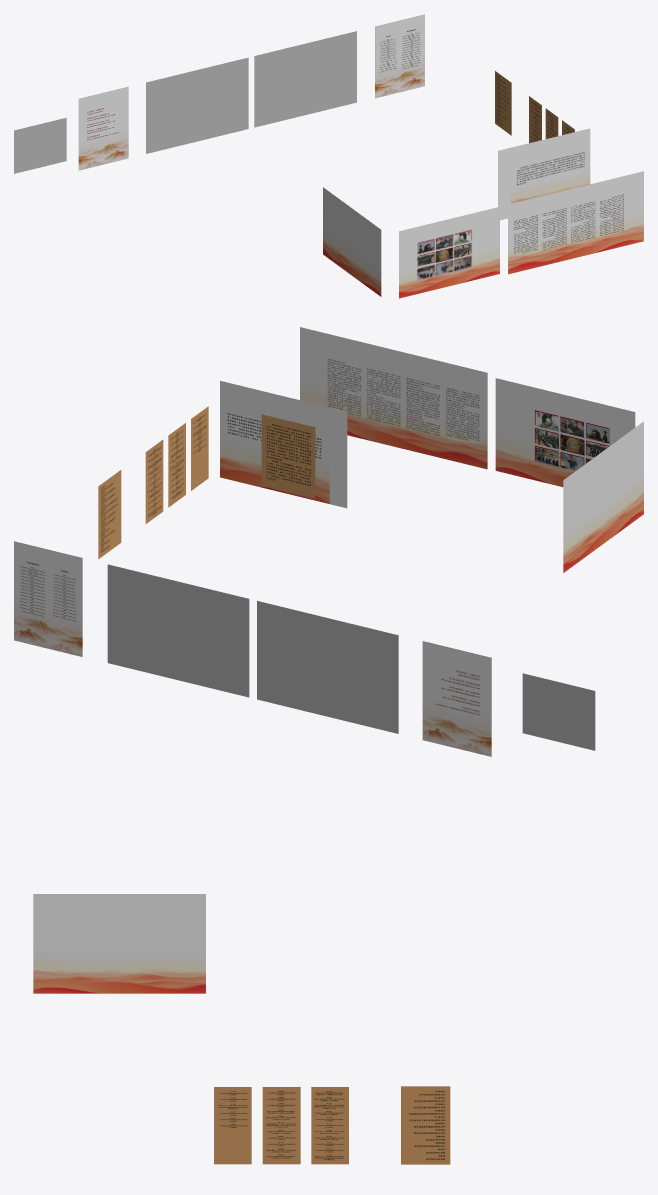
3 renders of one model, top to bottom at view 1: azimuth 30°, elevation 25°; view 2: azimuth 150°, elevation 25°; view 3: azimuth 270°, elevation 25°, orthographic. The views are drawn at different scales.
Visible parts, largest first — view 1: 5中队_建设成就, 5中队_发展历程右, 5中队_发展历程左, 5中队_军营文化, 5中队_重大任务, 5中队_官兵风采, 5中队_历史沿革, 5中队_历任主官, 5中队_前言, 5中队_集体荣誉, 5中队_个人荣誉左; view 2: 5中队_建设成就, 5中队_发展历程右, 5中队_发展历程左, 5中队_军营文化, 5中队_重大任务, 5中队_官兵风采, 5中队_历史沿革, 5中队_历任主官, 5中队_前言, 5中队_未来寄语, 5中队_集体荣誉, 5中队_个人荣誉左 (+2 smaller); view 3: 5中队_官兵风采, 5中队_集体荣誉, 5中队_个人荣誉中, 5中队_个人荣誉右, 5中队_个人荣誉左.
Boxes of the visible parts, <box> form: 5中队_建设成就: <box>508,171,643,274</box>; 5中队_发展历程右: <box>254,31,356,127</box>; 5中队_发展历程左: <box>146,57,248,153</box>; 5中队_军营文化: <box>399,207,499,298</box>; 5中队_重大任务: <box>498,128,590,220</box>; 5中队_官兵风采: <box>323,187,381,296</box>; 5中队_历史沿革: <box>78,86,128,170</box>; 5中队_历任主官: <box>375,14,424,98</box>; 5中队_前言: <box>14,117,66,173</box>; 5中队_集体荣誉: <box>495,71,511,135</box>; 5中队_个人荣誉左: <box>529,96,541,143</box>; 5中队_建设成就: <box>300,327,487,469</box>; 5中队_发展历程右: <box>107,564,249,697</box>; 5中队_发展历程左: <box>257,601,398,733</box>; 5中队_军营文化: <box>495,378,635,486</box>; 5中队_重大任务: <box>220,381,347,508</box>; 5中队_官兵风采: <box>563,421,643,572</box>; 5中队_历史沿革: <box>422,641,491,756</box>; 5中队_历任主官: <box>14,541,82,656</box>; 5中队_前言: <box>522,673,595,750</box>; 5中队_未来寄语: <box>261,414,315,498</box>; 5中队_集体荣誉: <box>98,470,121,558</box>; 5中队_个人荣誉左: <box>145,439,163,523</box>; 5中队_官兵风采: <box>33,894,205,993</box>; 5中队_集体荣誉: <box>401,1086,450,1164</box>; 5中队_个人荣誉中: <box>262,1087,300,1164</box>; 5中队_个人荣誉右: <box>214,1087,251,1164</box>; 5中队_个人荣誉左: <box>311,1087,348,1164</box>.
Size of the model in its own units: 1325 by 216 by 1154.
